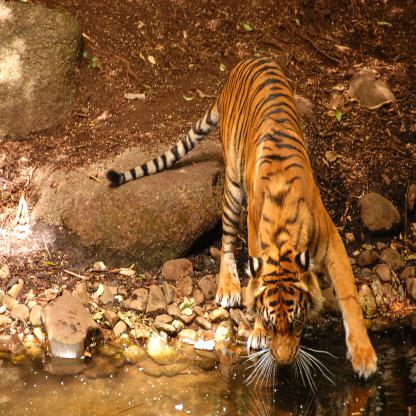Tiger: (106, 53, 380, 379)
